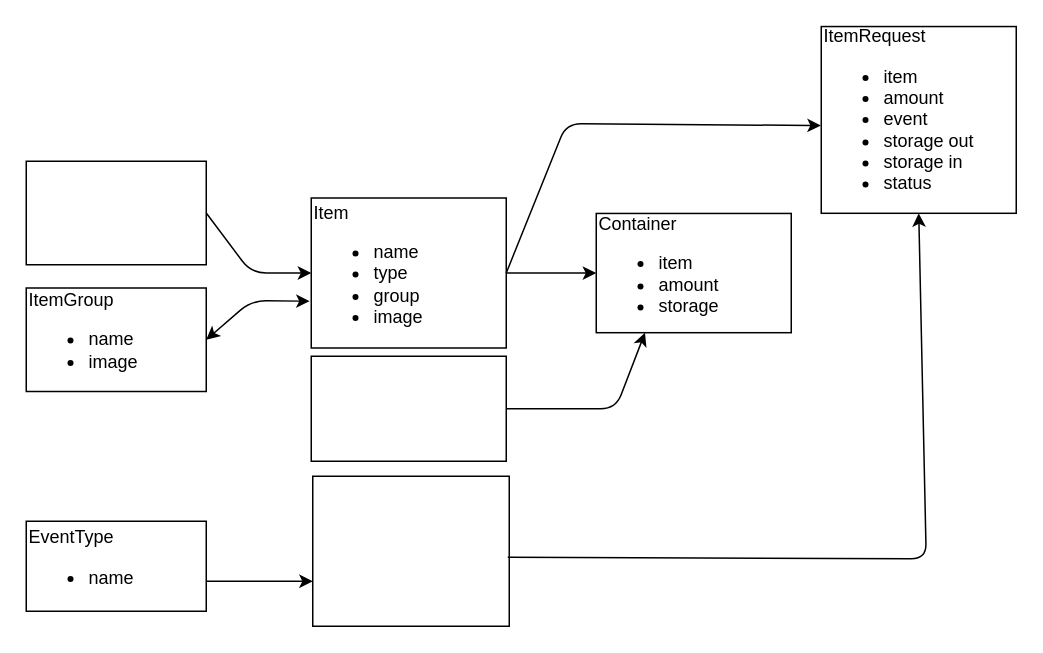
Image size: 1043x653. Some labels were removed from this diagram. The shapes that lost their labels are listed below. From the top down, each one's box as (x1, y1, x2, y2) in pixels, then its label:
(25, 160, 206, 265): ItemType name image
(310, 355, 506, 461): Storage name
(311, 475, 509, 626): Event name date type
